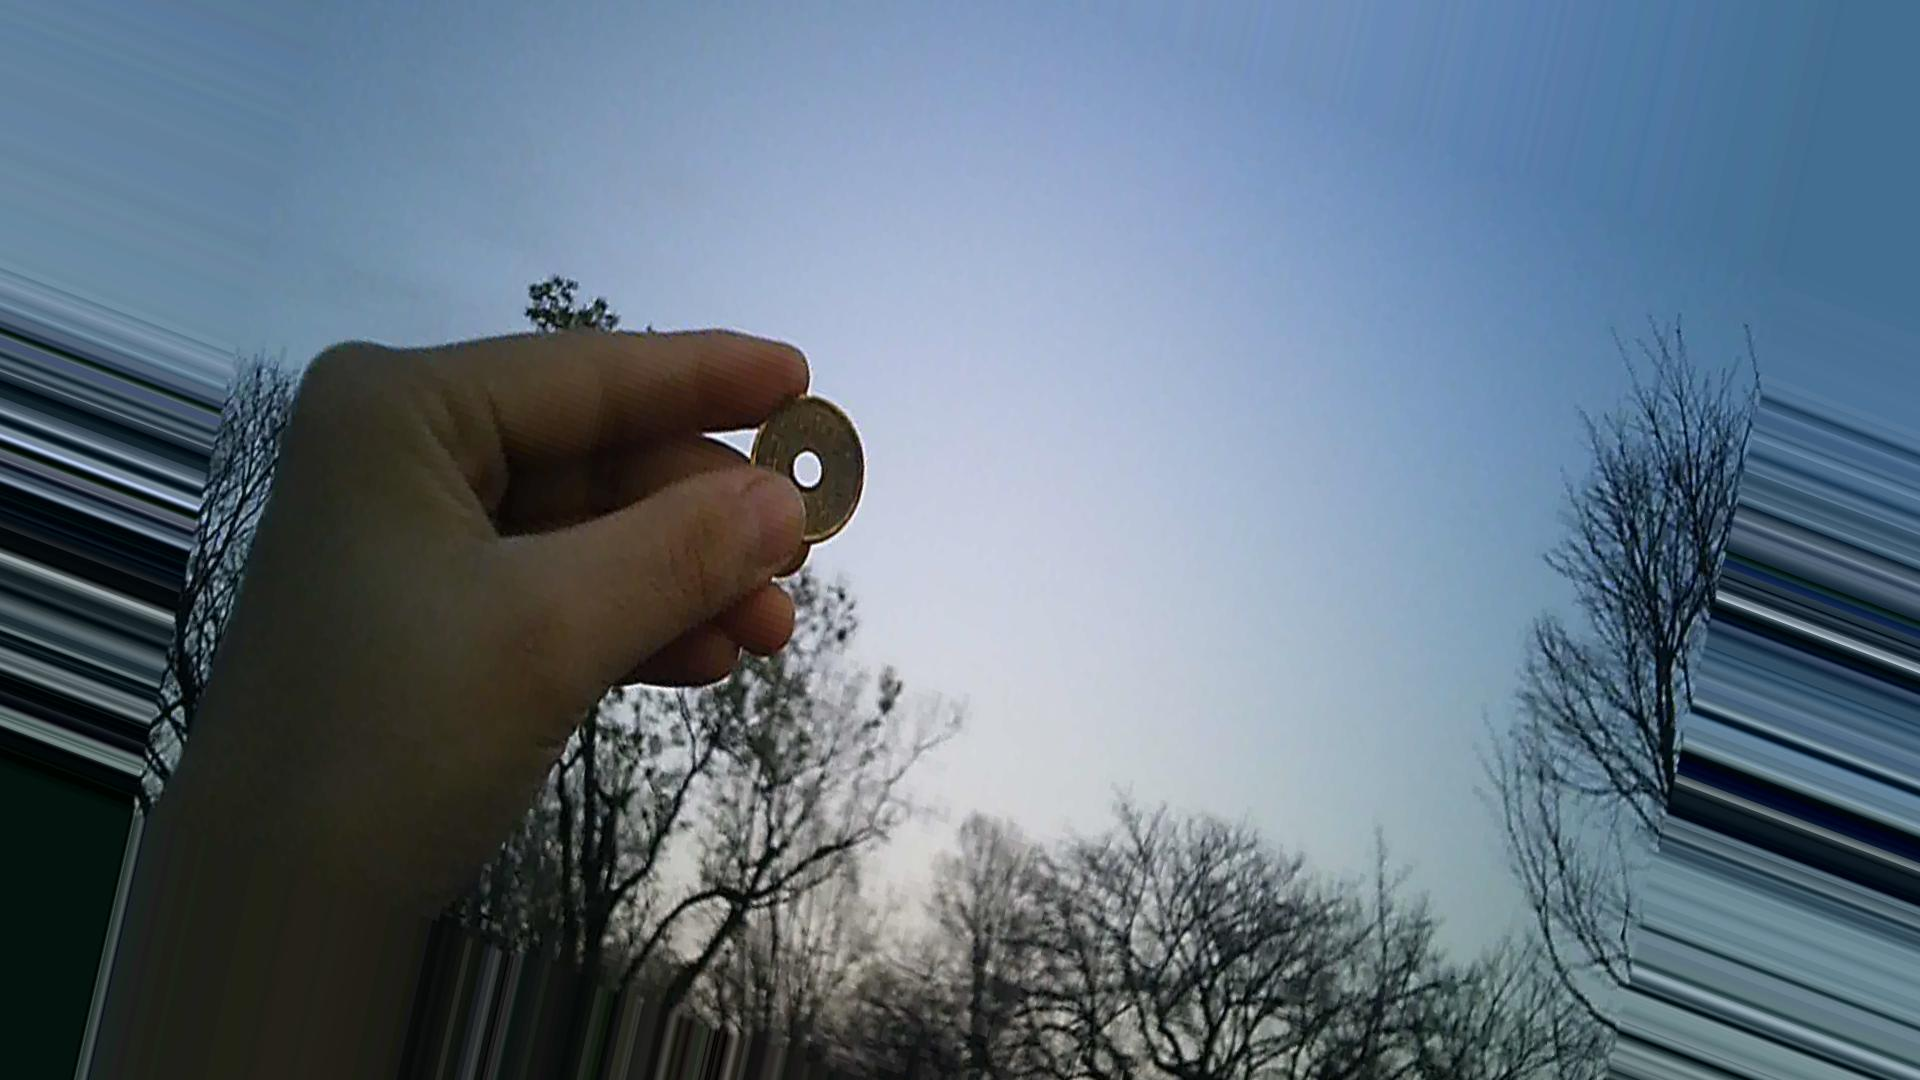5 Yen: (727, 382, 869, 559)
